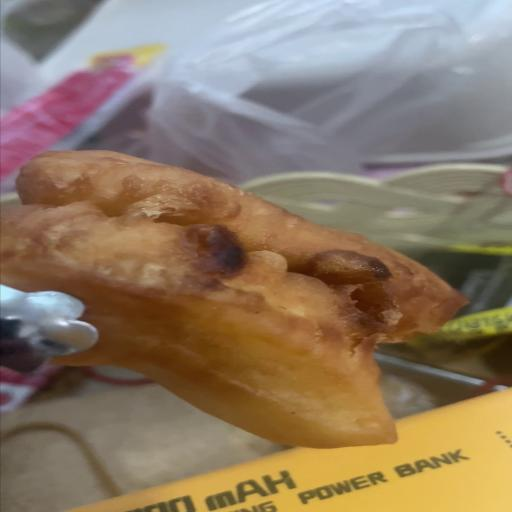street_burnt_defect: (0, 150, 466, 451)
